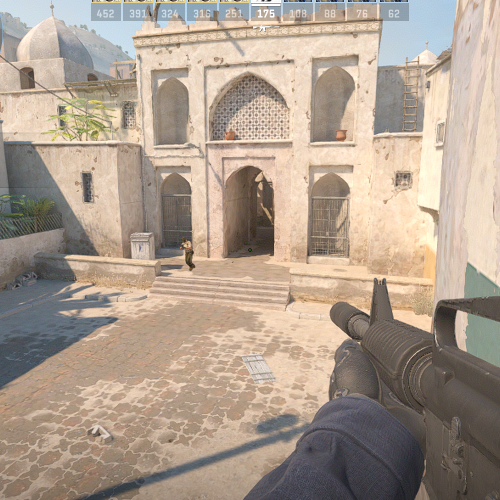t_body: (179, 237, 196, 272)
t_head: (181, 237, 188, 243)
